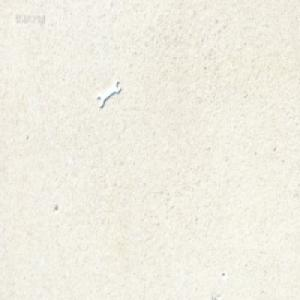Wrench: (96, 81, 119, 109)
